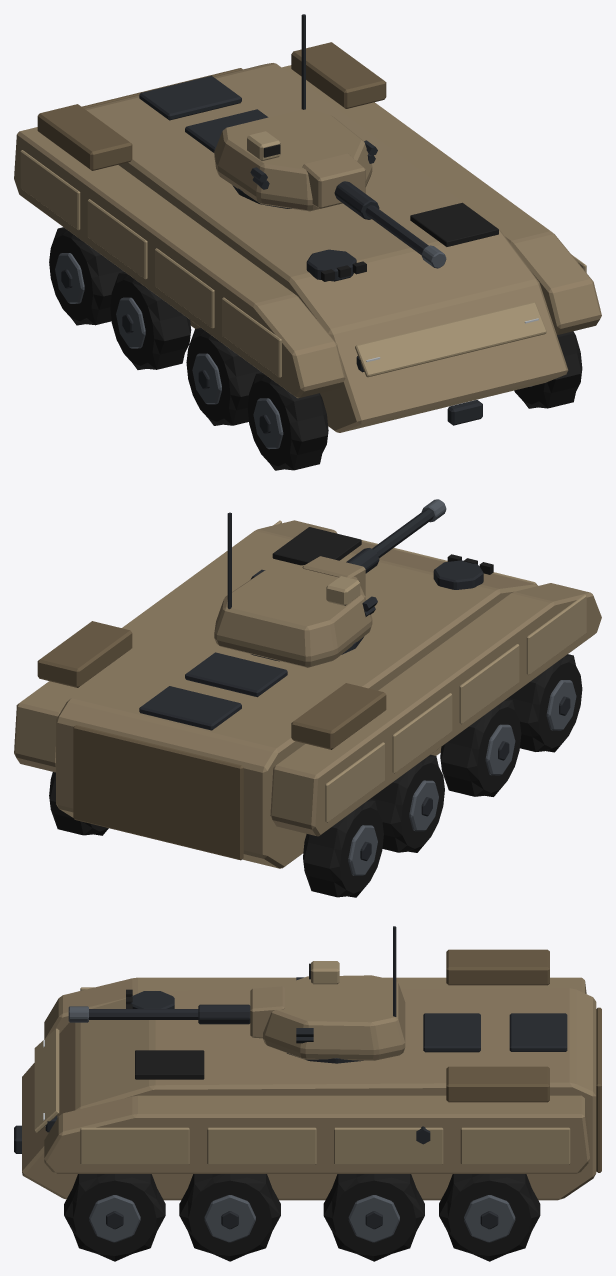
The model's file is apc-8x8.glb.
3 renders of one model, top to bottom at view 1: azimuth 30°, elevation 25°; view 2: azimuth 150°, elevation 25°; view 3: azimuth 270°, elevation 25°, orthographic. The views are drawn at different scales.
Parts seen in each view (by area): view 1: casco, turret_yaw, wheel_L1, wheel_L3, wheel_L4, wheel_L2, gun_pitch, wheel_R1; view 2: casco, turret_yaw, wheel_L4, wheel_L2, wheel_L3, wheel_L1, gun_pitch, wheel_R4; view 3: casco, turret_yaw, wheel_R1, wheel_R4, wheel_R3, wheel_R2, gun_pitch.
Part boxes in pixels (bbox=[...]): casco: bbox=[14, 42, 601, 432]; turret_yaw: bbox=[214, 14, 377, 211]; wheel_L1: bbox=[247, 372, 328, 470]; wheel_L3: bbox=[110, 272, 191, 369]; wheel_L4: bbox=[49, 227, 124, 325]; wheel_L2: bbox=[186, 327, 261, 425]; gun_pitch: bbox=[302, 153, 446, 268]; wheel_R1: bbox=[514, 331, 582, 408]; casco: bbox=[14, 520, 601, 868]; turret_yaw: bbox=[214, 512, 377, 667]; wheel_L4: bbox=[303, 799, 383, 897]; wheel_L2: bbox=[440, 699, 521, 796]; wheel_L3: bbox=[370, 754, 444, 852]; wheel_L1: bbox=[507, 654, 582, 752]; gun_pitch: bbox=[302, 499, 446, 595]; wheel_R4: bbox=[49, 772, 108, 835]; casco: bbox=[14, 949, 601, 1200]; turret_yaw: bbox=[262, 926, 405, 1060]; wheel_R1: bbox=[64, 1174, 165, 1261]; wheel_R4: bbox=[439, 1174, 540, 1261]; wheel_R3: bbox=[323, 1174, 424, 1261]; wheel_R2: bbox=[179, 1174, 280, 1261]; gun_pitch: bbox=[68, 986, 284, 1038].
Bounding box in the file's own units: 0.591 × 0.55 × 1.02.
